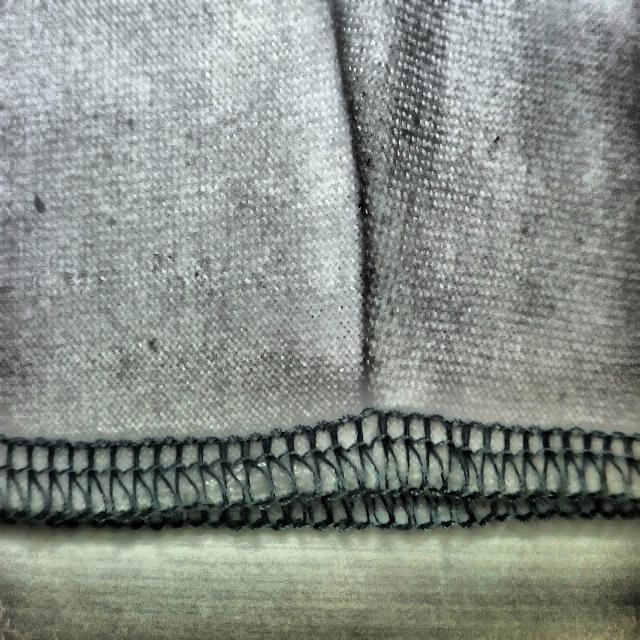gray stitch: (317, 190, 436, 490)
